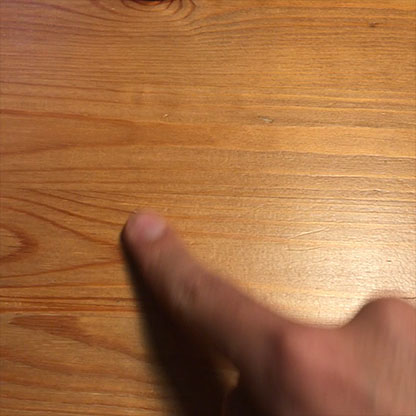fingertip: (121, 196, 176, 256)
